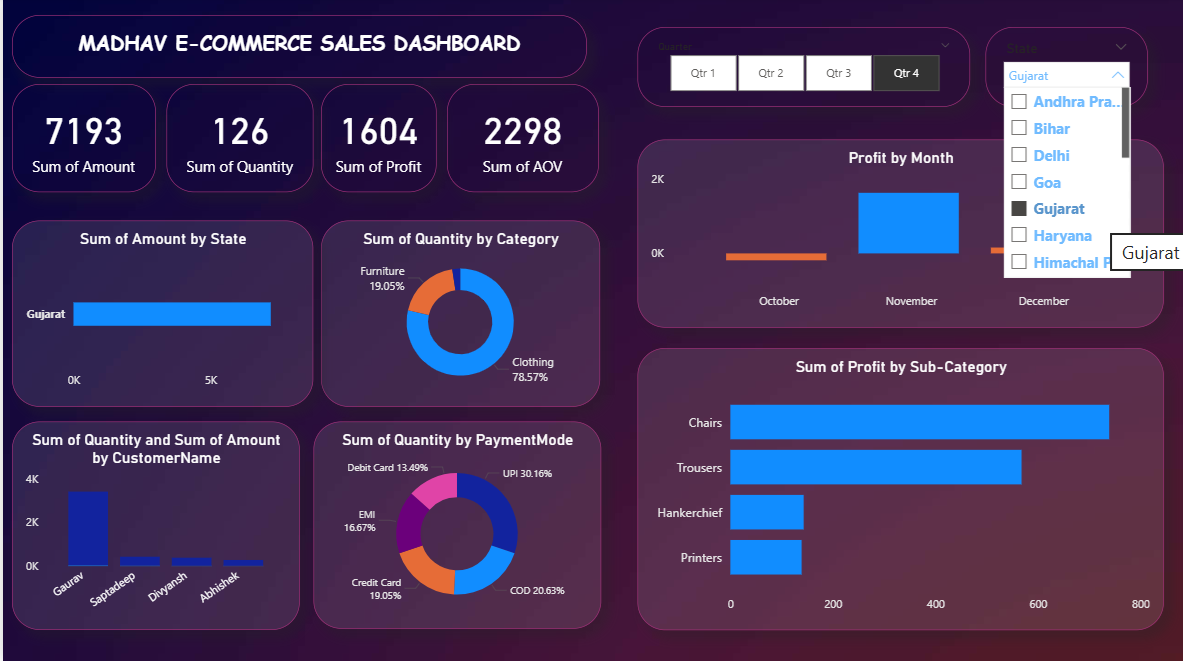

The page's visual inventory and layout, read from the dashboard file:
{"tool":"powerbi","page":{"name":"Page 1","canvas":[1280,720],"ordinal":0},"visuals":[{"type":"textbox","box":[9.4,18.9,623.6,68],"z":0},{"type":"columnChart","title":"Profit by Month","fields":{"Category":["Orders.Order Date.Variation.Date Hierarchy.Month"],"Y":["Sum(Details.Profit)"]},"box":[687.9,155,570.7,204.1],"z":1000},{"type":"barChart","fields":{"Category":["Details.Sub-Category"],"Y":["Sum(Details.Profit)"]},"box":[687.9,379.8,570.7,306.1],"z":2000},{"type":"donutChart","fields":{"Category":["Details.Category"],"Y":["Sum(Details.Quantity)"]},"box":[344.8,242.4,302.5,201.7],"z":3000},{"type":"donutChart","fields":{"Y":["Sum(Details.Quantity)"],"Category":["Details.PaymentMode"]},"box":[336.4,461.1,311.8,224.9],"z":4000},{"type":"card","fields":{"Values":["Sum(Details.Amount)"]},"box":[9.8,94.3,156.1,117.1],"z":4002},{"type":"card","fields":{"Values":["Sum(Details.Quantity)"]},"box":[177.3,94.3,159.4,117.1],"z":4003},{"type":"card","fields":{"Values":["Sum(Details.Profit)"]},"box":[344.8,94.3,125.2,117.1],"z":4004},{"type":"card","fields":{"Values":["Sum(Details.AOV)"]},"box":[481.9,94.5,164.4,117.2],"z":4005},{"type":"barChart","fields":{"Category":["Orders.State"],"Y":["Sum(Details.Amount)"]},"box":[9.8,242.4,326.9,201.7],"z":4006},{"type":"columnChart","fields":{"Category":["Orders.CustomerName"],"Y":["Sum(Details.Quantity)","Sum(Details.Amount)"]},"box":[10,460,312,226],"z":4007},{"type":"slicer","fields":{"Values":["Orders.Order Date.Variation.Date Hierarchy.Quarter"]},"box":[687.9,32.1,360.9,86.9],"z":4008},{"type":"slicer","fields":{"Values":["Orders.State"]},"box":[1065.8,32.1,175.7,86.9],"z":4009}]}

Visuals, with their boxes in screenshot pixels (x1, y1, x2, y2), scaled from the page's 1280x720 canvas onto the 1183x661 screenshot:
textbox: region(9, 17, 585, 80)
"Profit by Month" columnChart: region(636, 142, 1163, 330)
barChart - Details.Sub-Category x Sum(Details.Profit): region(636, 349, 1163, 630)
donutChart - Details.Category x Sum(Details.Quantity): region(319, 223, 598, 408)
donutChart - Sum(Details.Quantity) x Details.PaymentMode: region(311, 423, 599, 630)
card - Sum(Details.Amount): region(9, 87, 153, 194)
card - Sum(Details.Quantity): region(164, 87, 311, 194)
card - Sum(Details.Profit): region(319, 87, 434, 194)
card - Sum(Details.AOV): region(445, 87, 597, 194)
barChart - Orders.State x Sum(Details.Amount): region(9, 223, 311, 408)
columnChart - Orders.CustomerName x Sum(Details.Quantity): region(9, 422, 298, 630)
slicer - Orders.Order Date.Variation.Date Hierarchy.Quarter: region(636, 29, 969, 109)
slicer - Orders.State: region(985, 29, 1147, 109)
